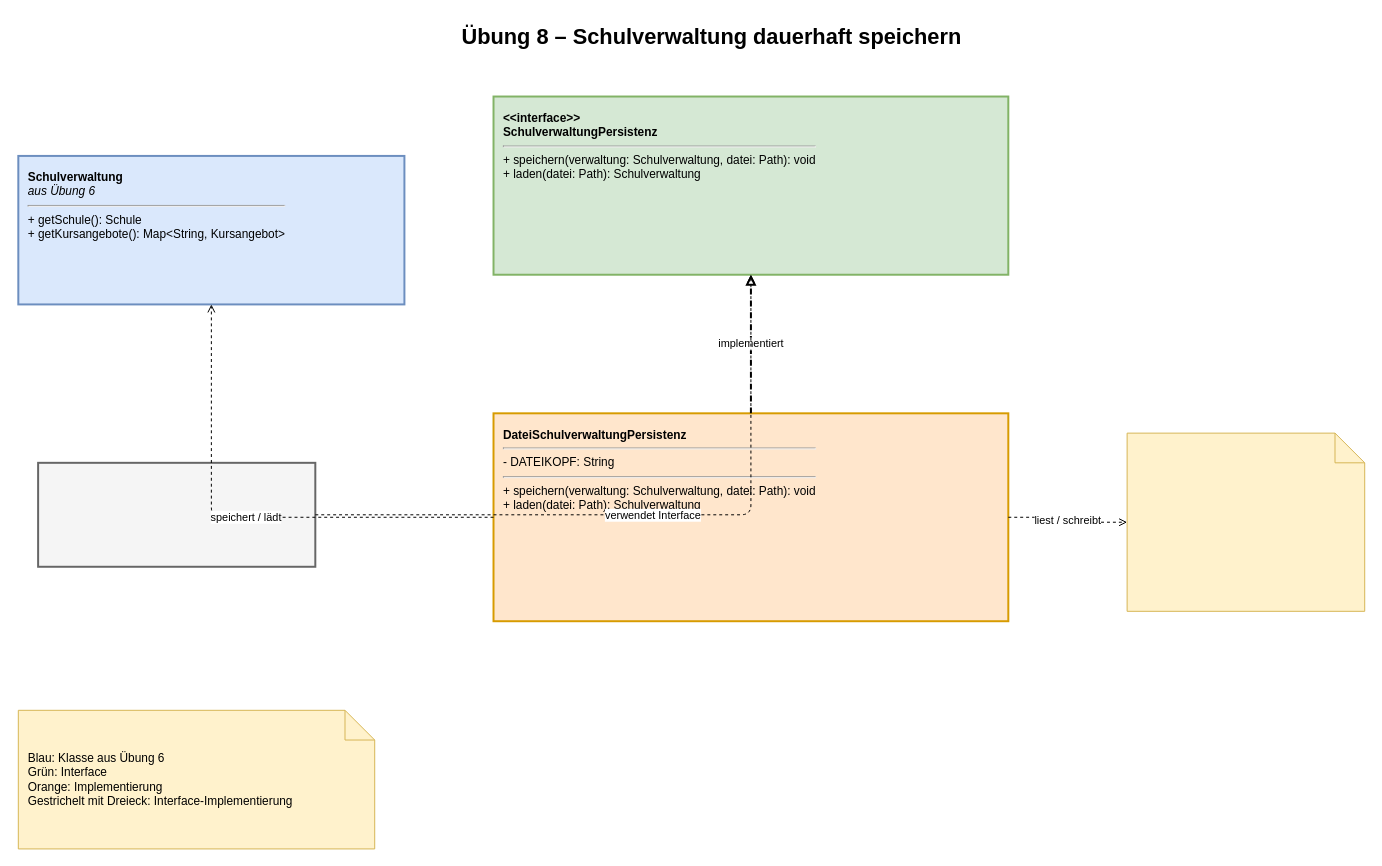
Image size: 1382x866. Some labels were removed from this diagram. Here are the shapes that lost their labels. From the top down, the centre of each, then its label:
At (x=176, y=514): "Uebung08 + main(args: String[]): void".
At (x=1245, y=521): "Textdatei Schule Personen Kurse Anmeldungen".
